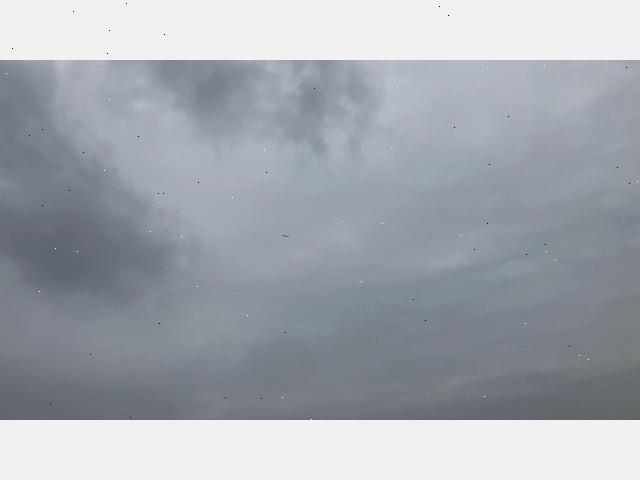Anti-Drone: (274, 232, 296, 241)
